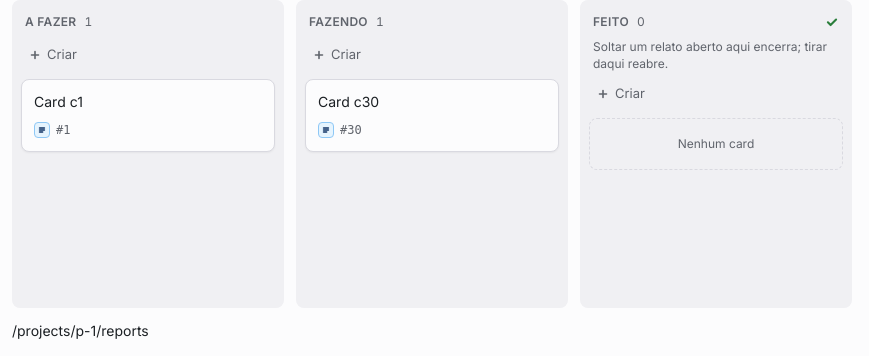
Test: criar na coluna (Q-05) › a falha fica embaixo do campo, com o titulo mantido; escrever de novo tira o erro
The width and height of the screenshot is (869, 356).
Click the button with aria-label "Criar card em Fazendo" at (432, 55), box [305, 39, 559, 71]
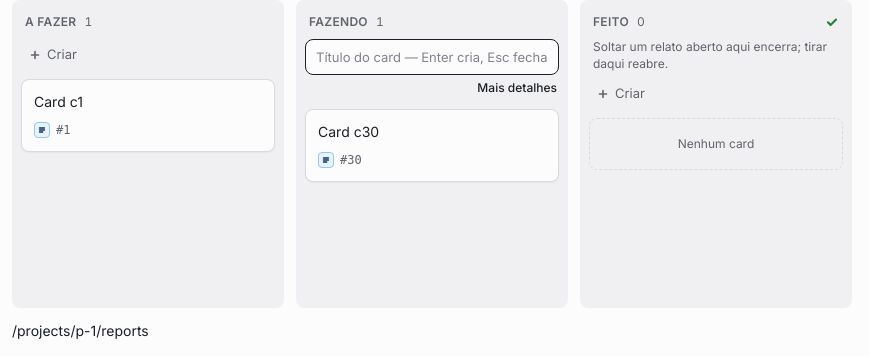
Type "Revisar o frete" into the field with placeholder "Título do card — Enter cria, Esc fecha" at (432, 57), box [305, 39, 559, 75]
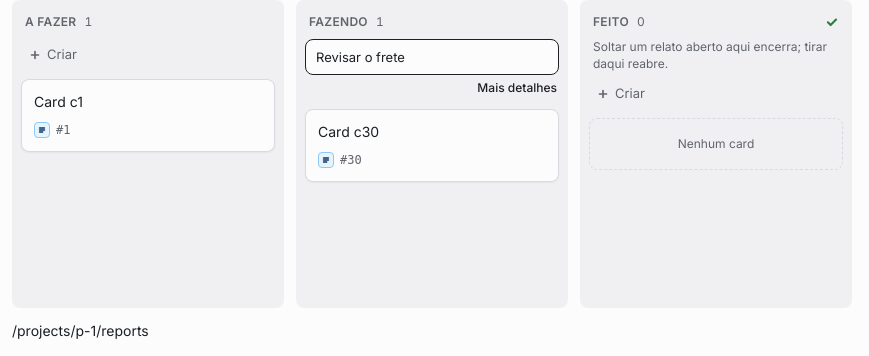
Submit the form, box [297, 39, 567, 105]
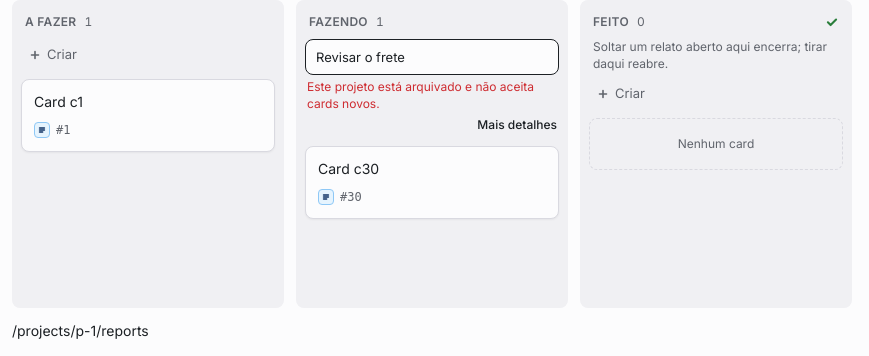
Expected: the message reads "Este projeto está arquivado e não aceita cards novos.", [307, 79, 534, 110]
Replace the text in the field named "Título do card novo em Fazendo" with "Revisar o frete da loja" at (432, 57), box [305, 39, 559, 75]
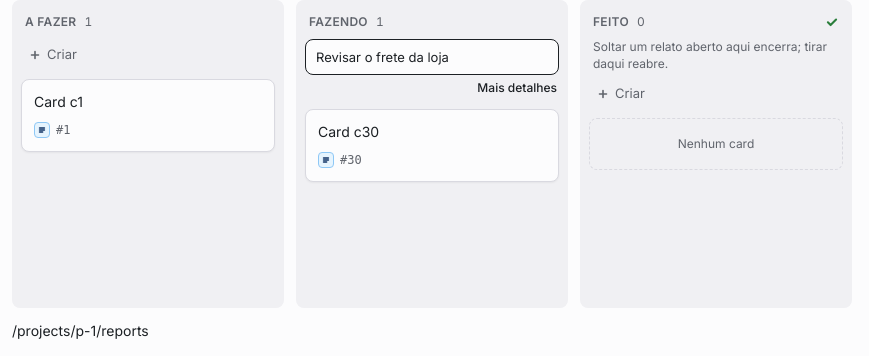
Expected: the message "Este projeto está arquivado e não aceita cards novos." is gone
